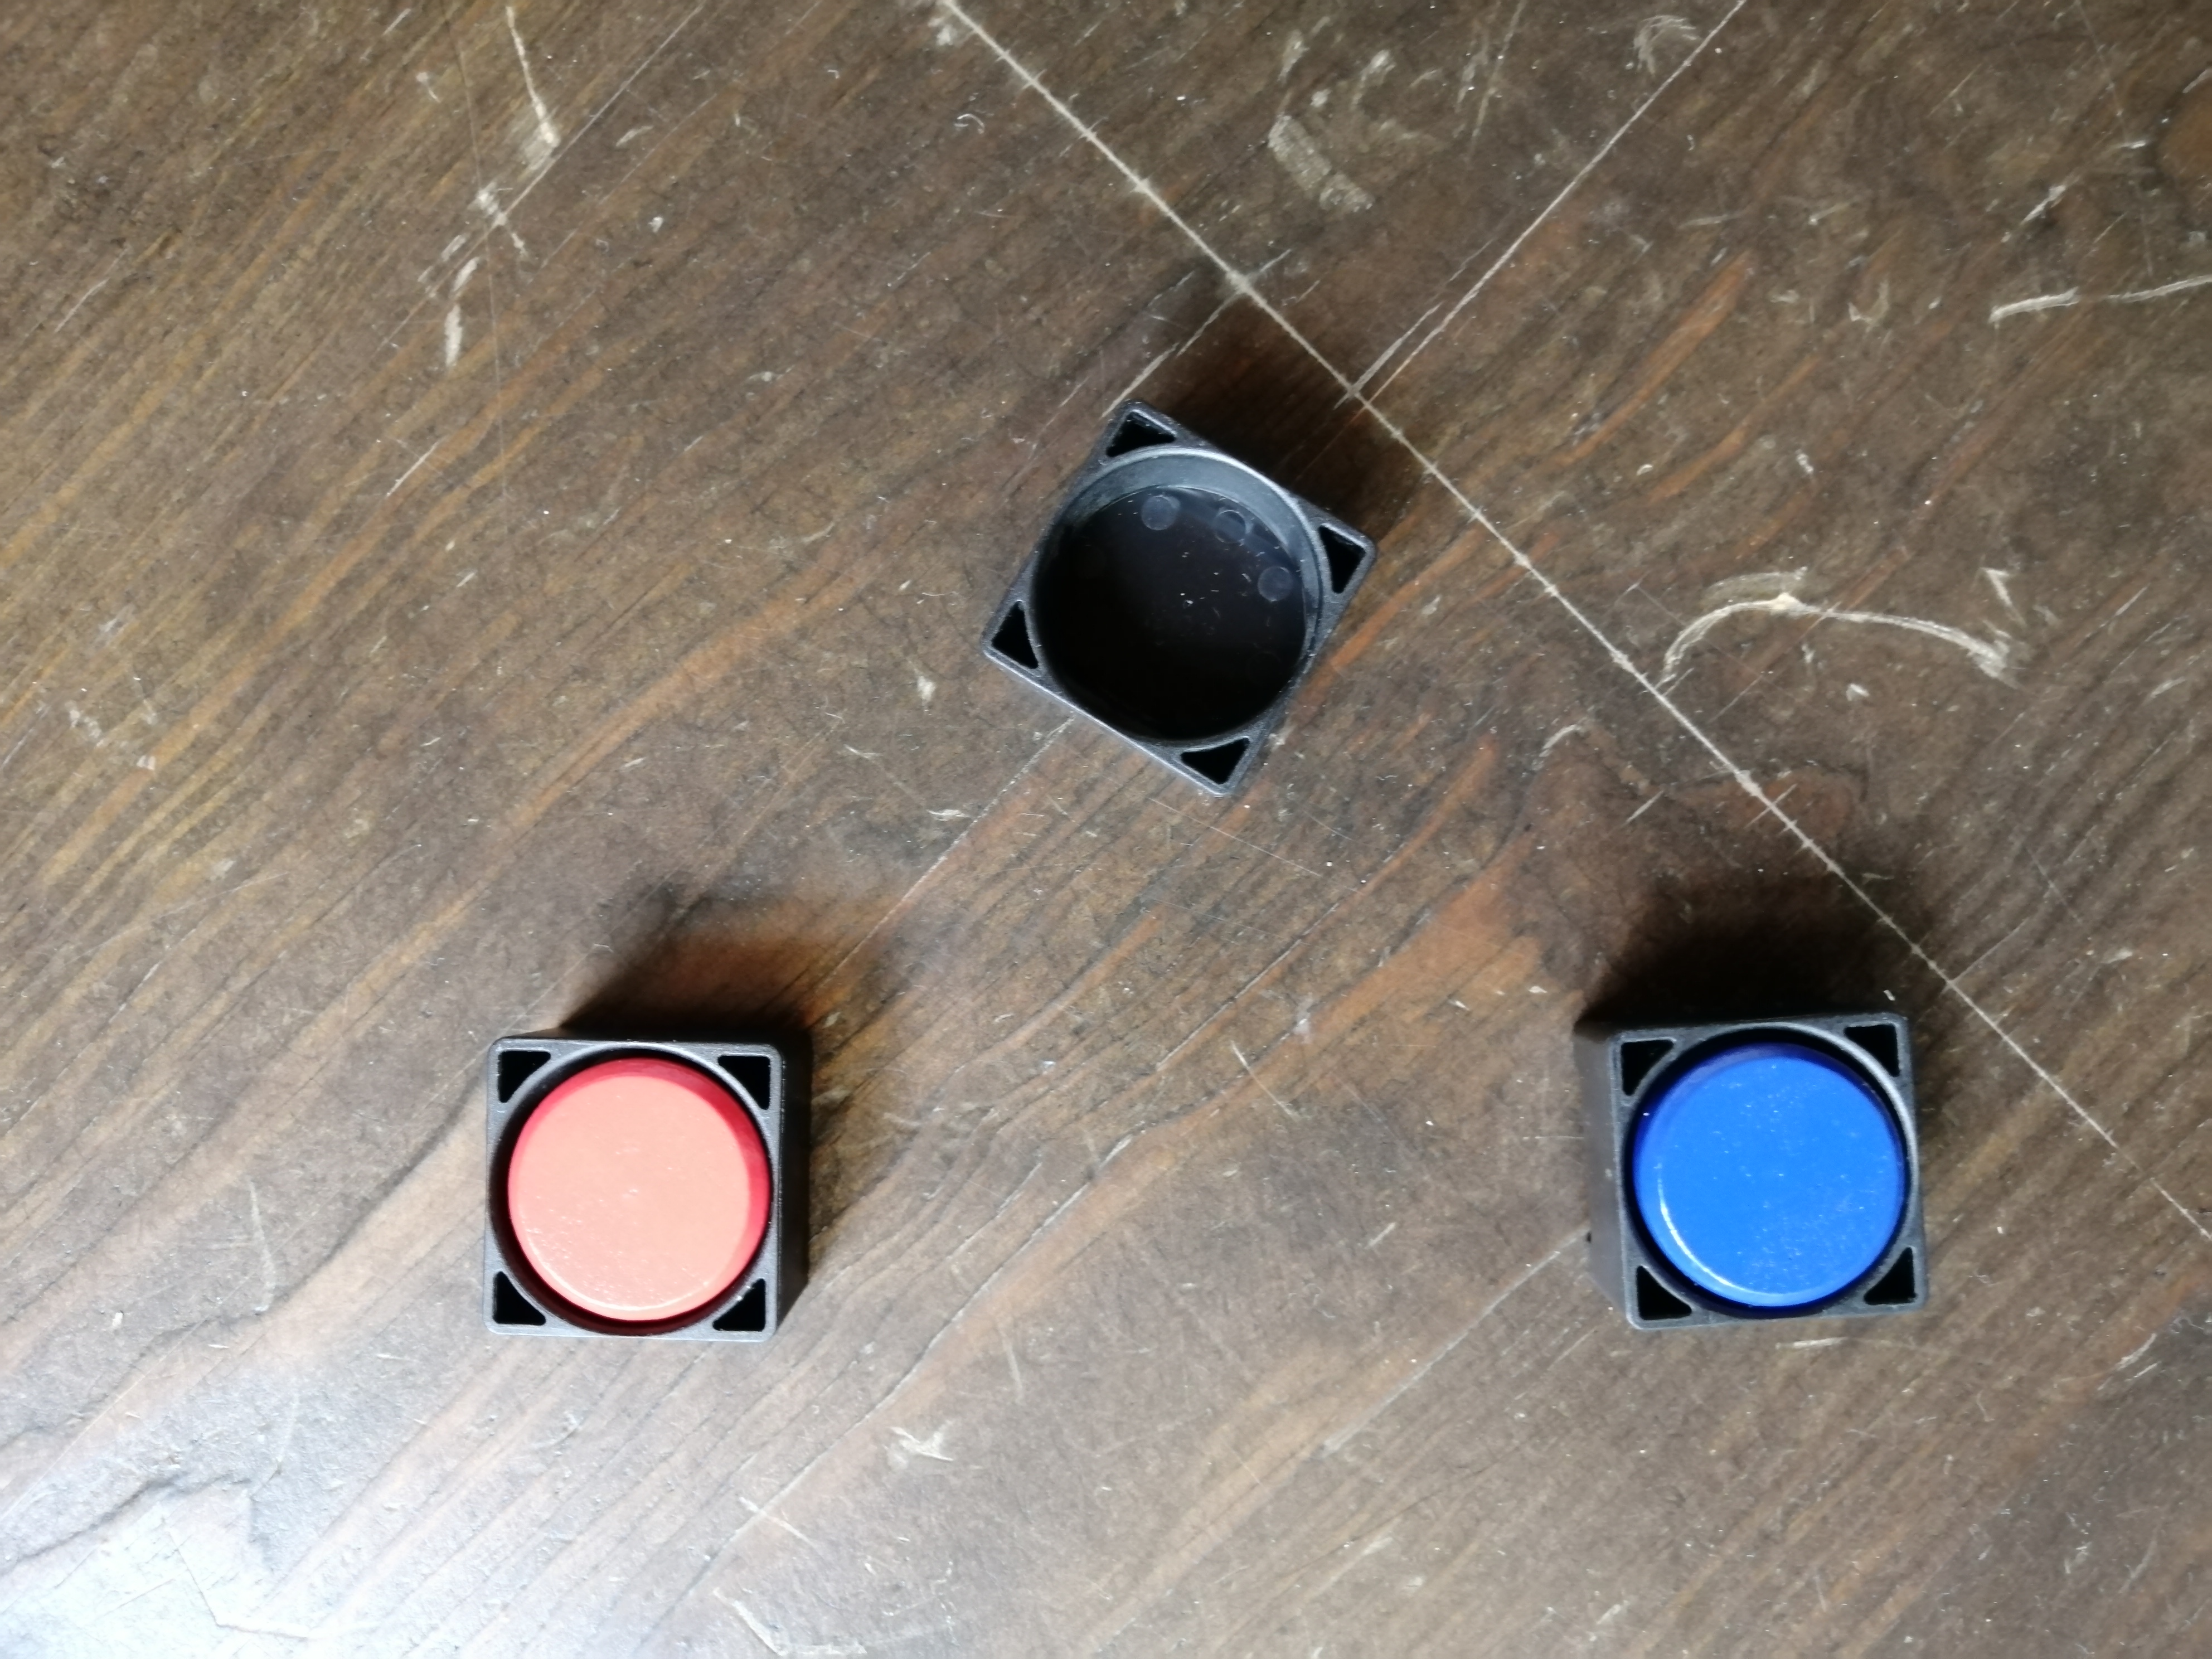Behaelter: (977, 401, 1376, 809), (1578, 1028, 1923, 1338), (477, 1039, 794, 1340)
WerkStueck: (502, 1068, 747, 1317), (1646, 1065, 1892, 1302)
